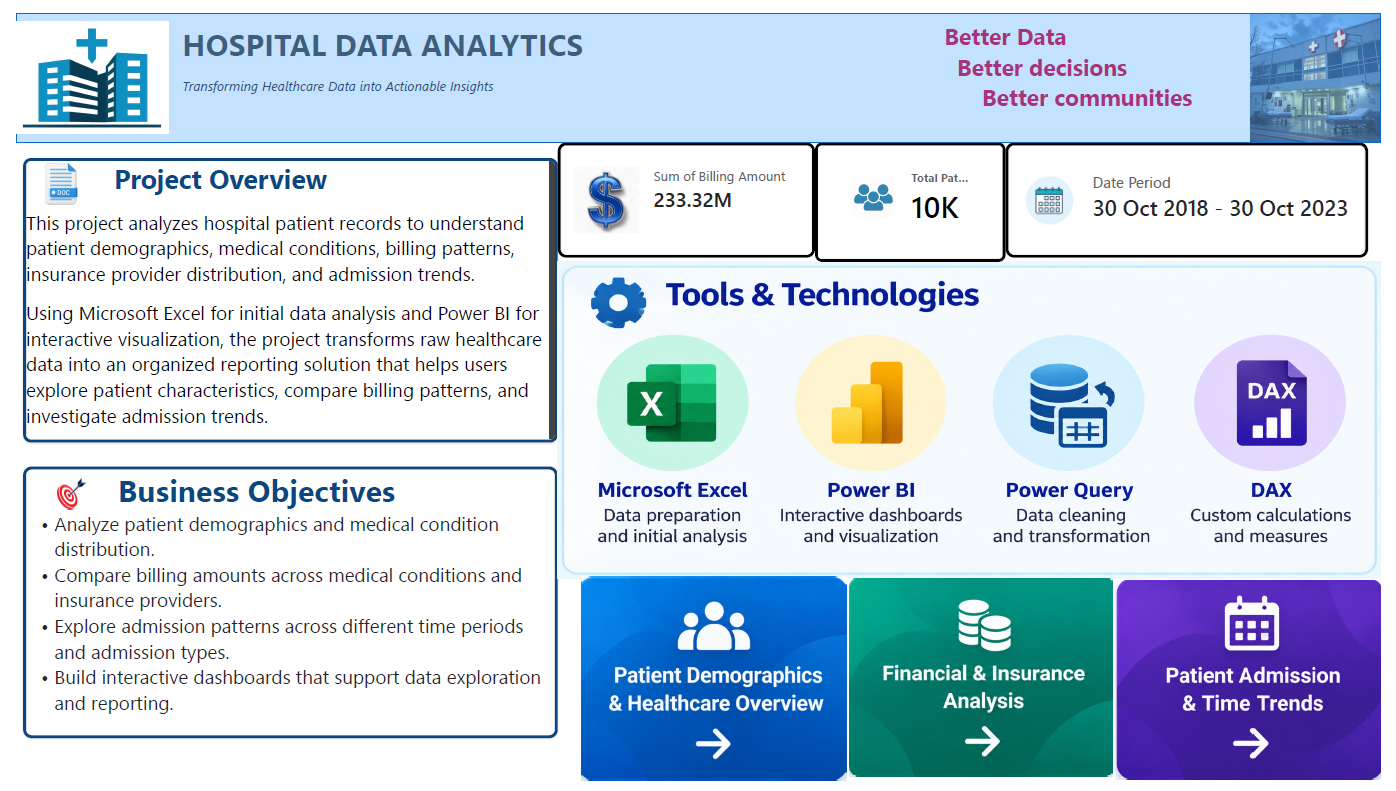

The dashboard page shown, as its layout file describes it:
{"tool":"powerbi","page":{"name":"Project Overview","canvas":[1920,1080],"ordinal":0},"visuals":[{"type":"textbox","box":[234,14,606,130],"z":0},{"type":"textbox","box":[10,204,752,400],"z":1000},{"type":"textbox","box":[10,638,752,382],"z":2000},{"type":"image","box":[762,350,1158,446],"z":3000},{"type":"image","box":[796,792,372,288],"z":4000},{"type":"image","box":[1168,796,378,278],"z":5000},{"type":"image","box":[1546,796,374,284],"z":6000},{"type":"cardVisual","fields":{"Data":["Healthcare_Data_v1__1.Total Patients"]},"box":[1124,182,268,168],"z":7000},{"type":"cardVisual","fields":{"Data":["Sum(Healthcare_Data_v1__1. Billing Amount )"]},"box":[762,182,362,162],"z":9000},{"type":"cardVisual","fields":{"Data":["DateTable.Date Period"]},"box":[1392,182,510,162],"z":10000},{"type":"image","box":[1734,0,186,182],"z":11000},{"type":"shape","box":[0,0,1920,182],"z":11001},{"type":"textbox","box":[1306,10,390,172],"z":11002},{"type":"image","box":[10,204,106,72],"z":11003},{"type":"image","box":[26,638,100,68],"z":11004},{"type":"image","box":[0,0,214,182],"z":11005}]}

Visuals, with their boxes in screenshot pixels (x1, y1, x2, y2), scaled from the page's 1920x1080 canvas onto the 1396x791 screenshot:
textbox: 170,10,611,105
textbox: 7,149,554,442
textbox: 7,467,554,747
image: 554,256,1395,583
image: 579,580,849,790
image: 849,583,1124,787
image: 1124,583,1395,790
cardVisual - Healthcare_Data_v1__1.Total Patients: 817,133,1012,256
cardVisual - Sum(Healthcare_Data_v1__1. Billing Amount ): 554,133,817,252
cardVisual - DateTable.Date Period: 1012,133,1383,252
image: 1261,0,1395,133
shape: 0,0,1395,133
textbox: 950,7,1233,133
image: 7,149,84,202
image: 19,467,92,517
image: 0,0,156,133
